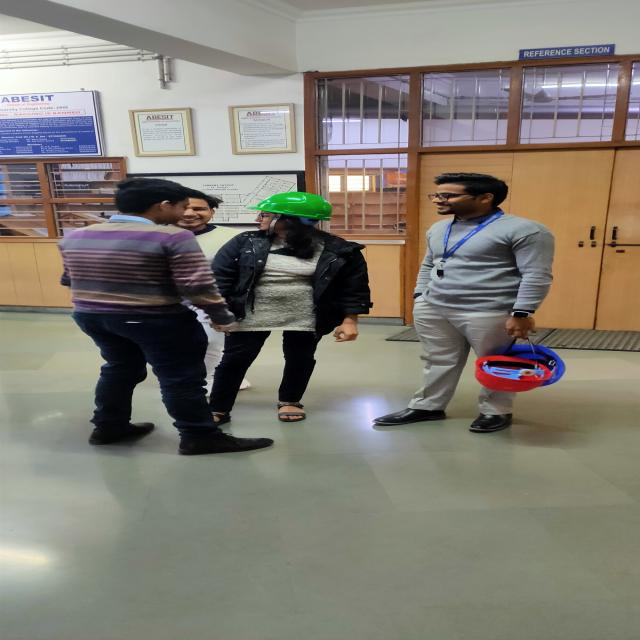no jacket: (216, 190, 372, 421)
unsafe: (56, 176, 276, 454), (372, 173, 574, 432), (183, 188, 254, 258)
